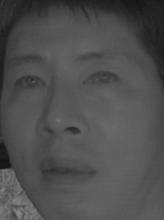eye: (80, 69, 122, 91), (10, 72, 48, 94)
mouth: (34, 152, 98, 189)
